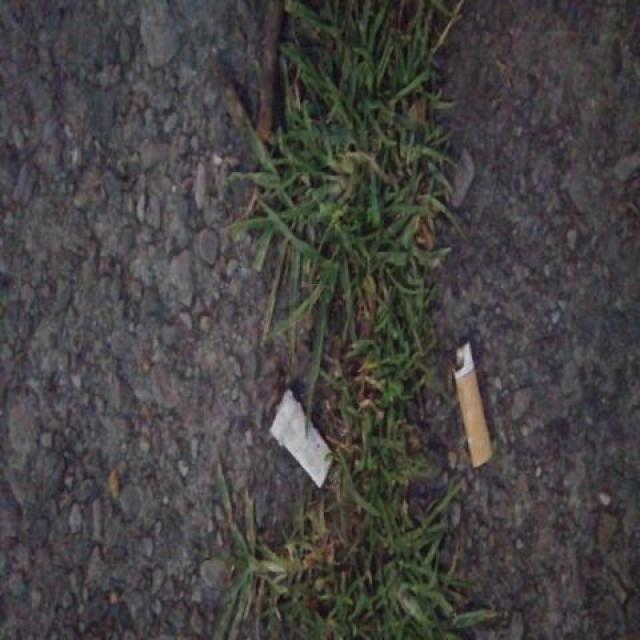non-organic waste: (266, 385, 338, 492), (448, 337, 500, 471)
